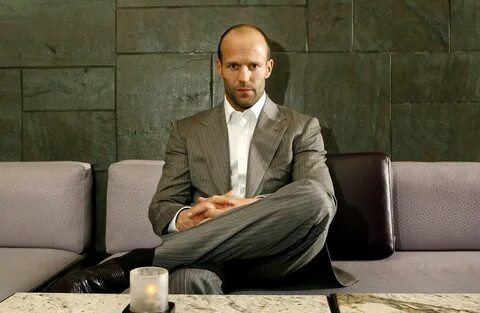awake: (146, 23, 338, 295)
